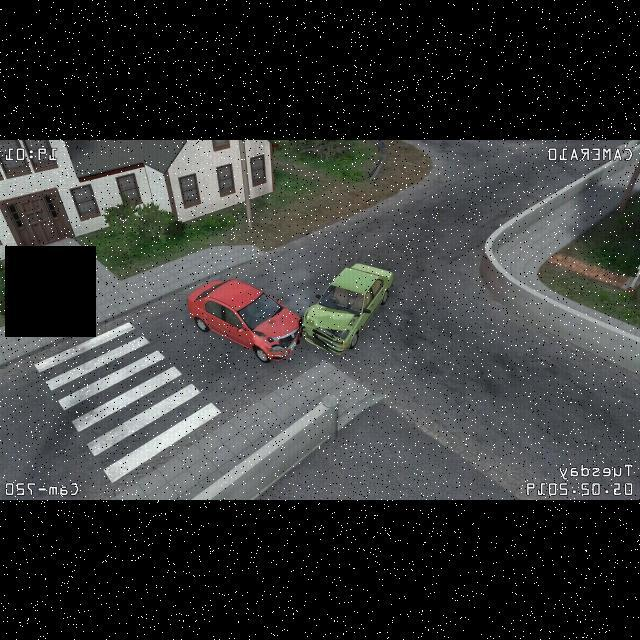moderate: (186, 258, 397, 364)
